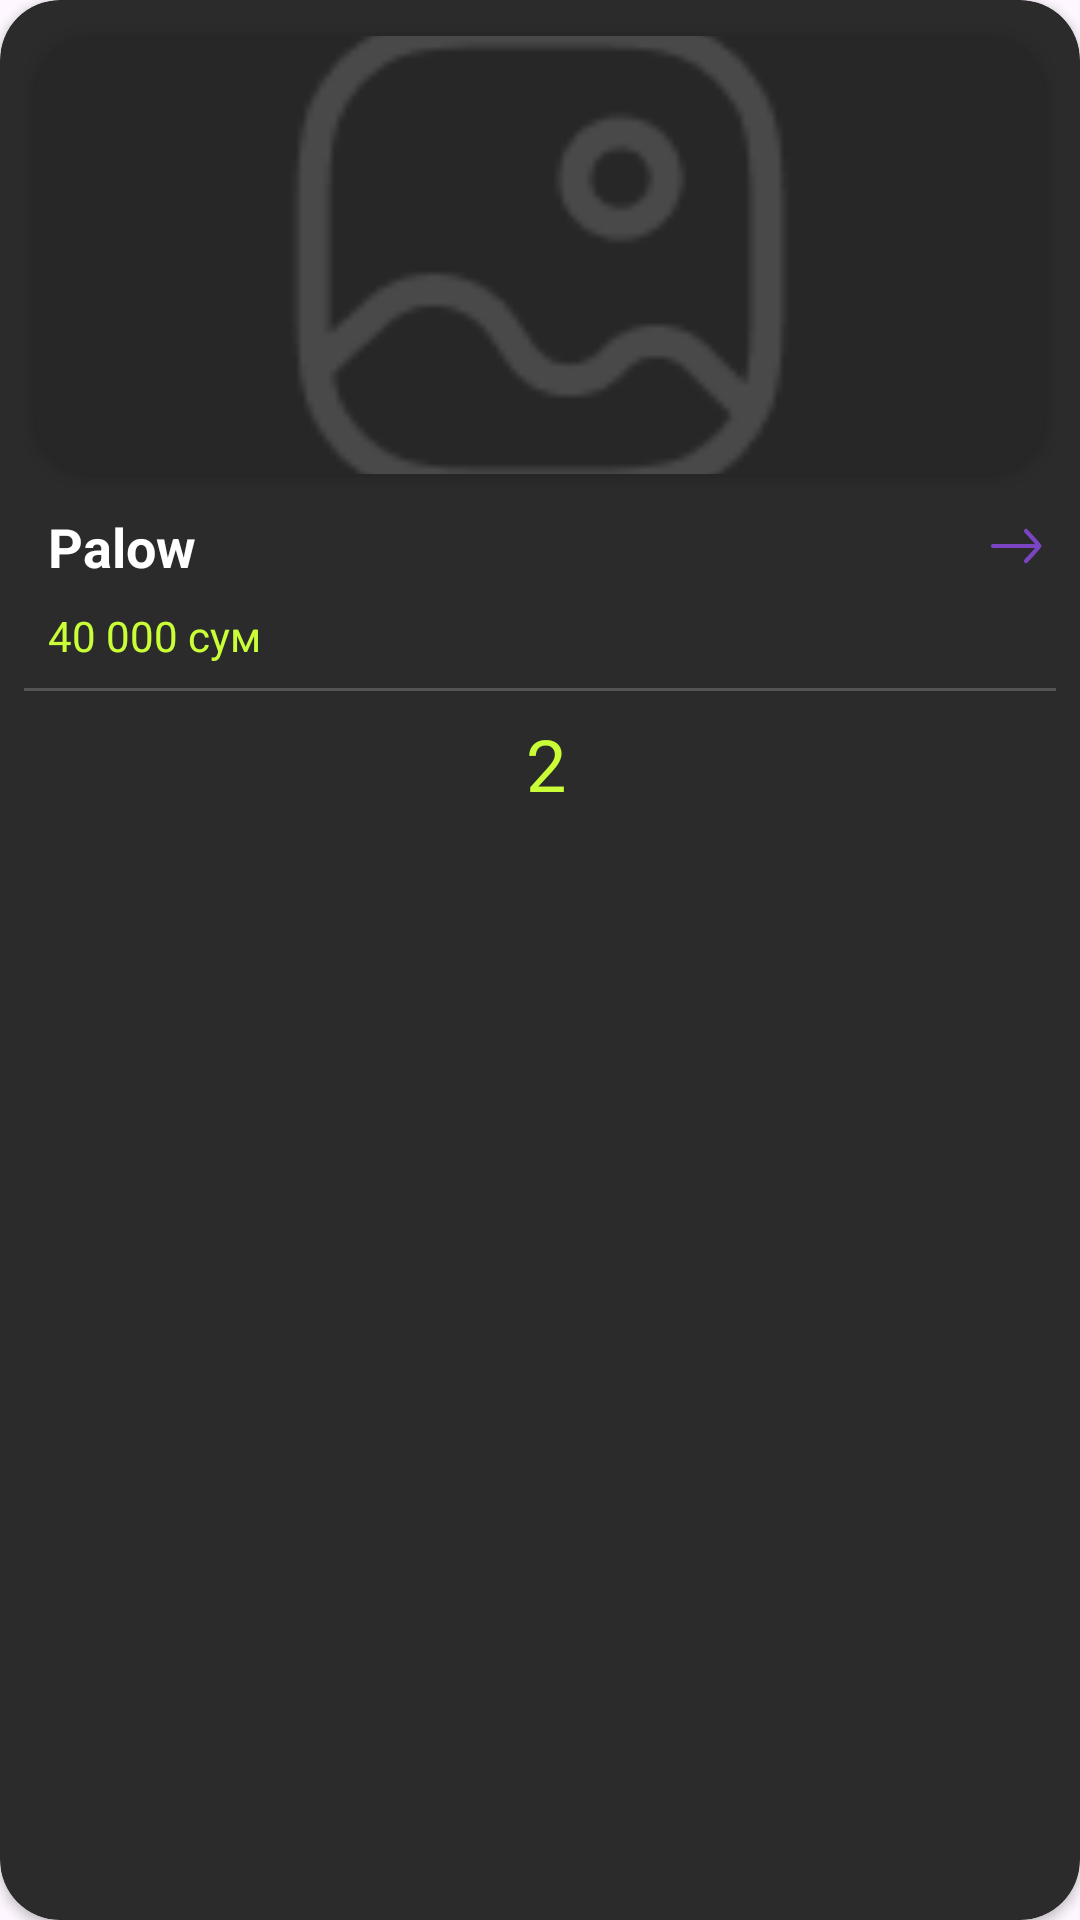

Icon click points for this 1080*1920 phone screenshot, format (x=x, y=y):
arrow right: (x=1016, y=546)
